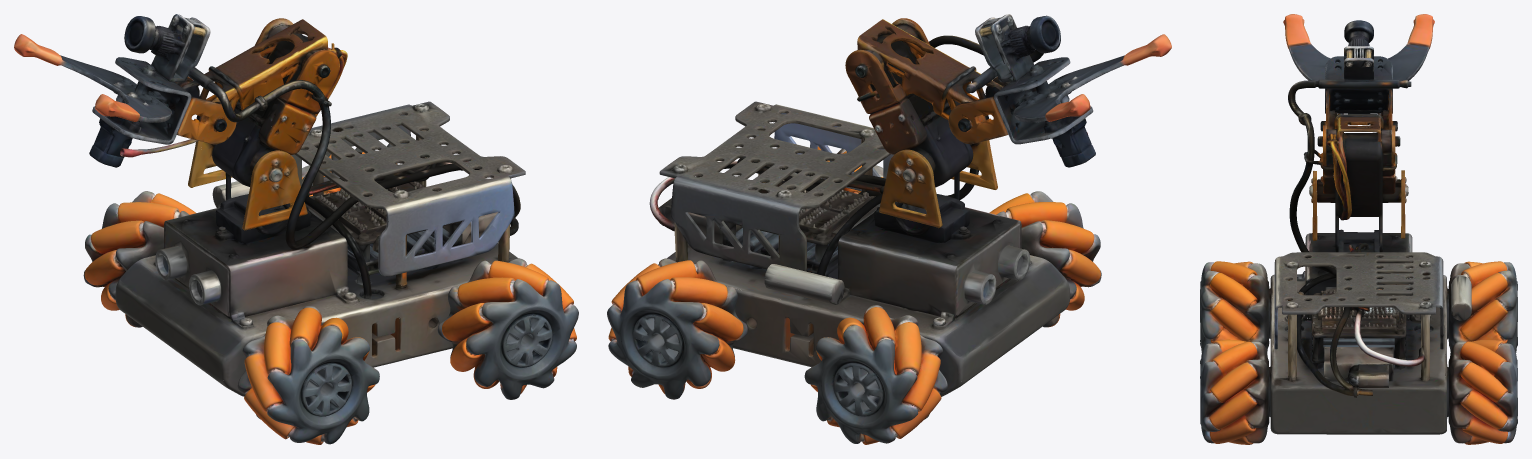
Rendered from rover_web.glb.
The picture shows the model from 3 angles, left to right: view 1: azimuth 30°, elevation 25°; view 2: azimuth 150°, elevation 25°; view 3: azimuth 270°, elevation 25°; orthographic projection. The views are drawn at different scales.
Parts seen in each view (by area): view 1: 01_Chassis_Frame, 04_Rear_Left_Wheel, 02_Front_Left_Wheel, 07_Top_Protective_Rails, 06_Rear_Equipment_Enclosure, 08_Arm_Base_Pedestal, 14_Gripper_Body, 03_Front_Right_Wheel, 12_Upper_Arm_Link, 10_Lower_Arm_Link, 11_Elbow_Joint, 17_Top_Sensor_Housing (+4 smaller); view 2: 01_Chassis_Frame, 05_Rear_Right_Wheel, 03_Front_Right_Wheel, 06_Rear_Equipment_Enclosure, 07_Top_Protective_Rails, 08_Arm_Base_Pedestal, 12_Upper_Arm_Link, 02_Front_Left_Wheel, 14_Gripper_Body, 10_Lower_Arm_Link, 11_Elbow_Joint, 17_Top_Sensor_Housing (+4 smaller); view 3: 01_Chassis_Frame, 06_Rear_Equipment_Enclosure, 07_Top_Protective_Rails, 05_Rear_Right_Wheel, 04_Rear_Left_Wheel, 02_Front_Left_Wheel, 03_Front_Right_Wheel, 11_Elbow_Joint, 08_Arm_Base_Pedestal, 14_Gripper_Body, 10_Lower_Arm_Link, 13_Wrist_Joint (+5 smaller).
Part boxes in pixels (x1,y1,x2,y2): 01_Chassis_Frame: (115,181,527,396); 04_Rear_Left_Wheel: (374,258,578,399); 02_Front_Left_Wheel: (223,306,379,444); 07_Top_Protective_Rails: (295,101,525,221); 06_Rear_Equipment_Enclosure: (291,125,520,294); 08_Arm_Base_Pedestal: (164,169,347,272); 14_Gripper_Body: (89,55,190,167); 03_Front_Right_Wheel: (83,191,224,327); 12_Upper_Arm_Link: (187,39,330,137); 10_Lower_Arm_Link: (190,100,330,215); 11_Elbow_Joint: (255,18,347,113); 17_Top_Sensor_Housing: (124,14,210,66); 01_Chassis_Frame: (658,224,1069,396); 05_Rear_Right_Wheel: (607,258,811,399); 03_Front_Right_Wheel: (792,286,961,444); 06_Rear_Equipment_Enclosure: (649,122,893,288); 07_Top_Protective_Rails: (659,101,890,221); 08_Arm_Base_Pedestal: (838,168,1021,272); 12_Upper_Arm_Link: (862,35,997,137); 02_Front_Left_Wheel: (989,191,1101,327); 14_Gripper_Body: (994,55,1095,167); 10_Lower_Arm_Link: (869,100,995,215); 11_Elbow_Joint: (845,18,940,105); 17_Top_Sensor_Housing: (975,14,1060,65); 01_Chassis_Frame: (1272,243,1471,434); 06_Rear_Equipment_Enclosure: (1274,266,1471,395); 07_Top_Protective_Rails: (1274,252,1443,318); 05_Rear_Right_Wheel: (1445,309,1517,444); 04_Rear_Left_Wheel: (1200,325,1272,444); 02_Front_Left_Wheel: (1200,261,1272,352); 03_Front_Right_Wheel: (1445,261,1517,352); 11_Elbow_Joint: (1304,124,1400,174); 08_Arm_Base_Pedestal: (1290,214,1412,281); 14_Gripper_Body: (1302,56,1415,114); 10_Lower_Arm_Link: (1291,170,1406,229); 13_Wrist_Joint: (1288,77,1411,131).
Bounding box in the file's own units: 0.9804 × 0.7854 × 0.7373.
Materials: 1 (1 with a texture image).
